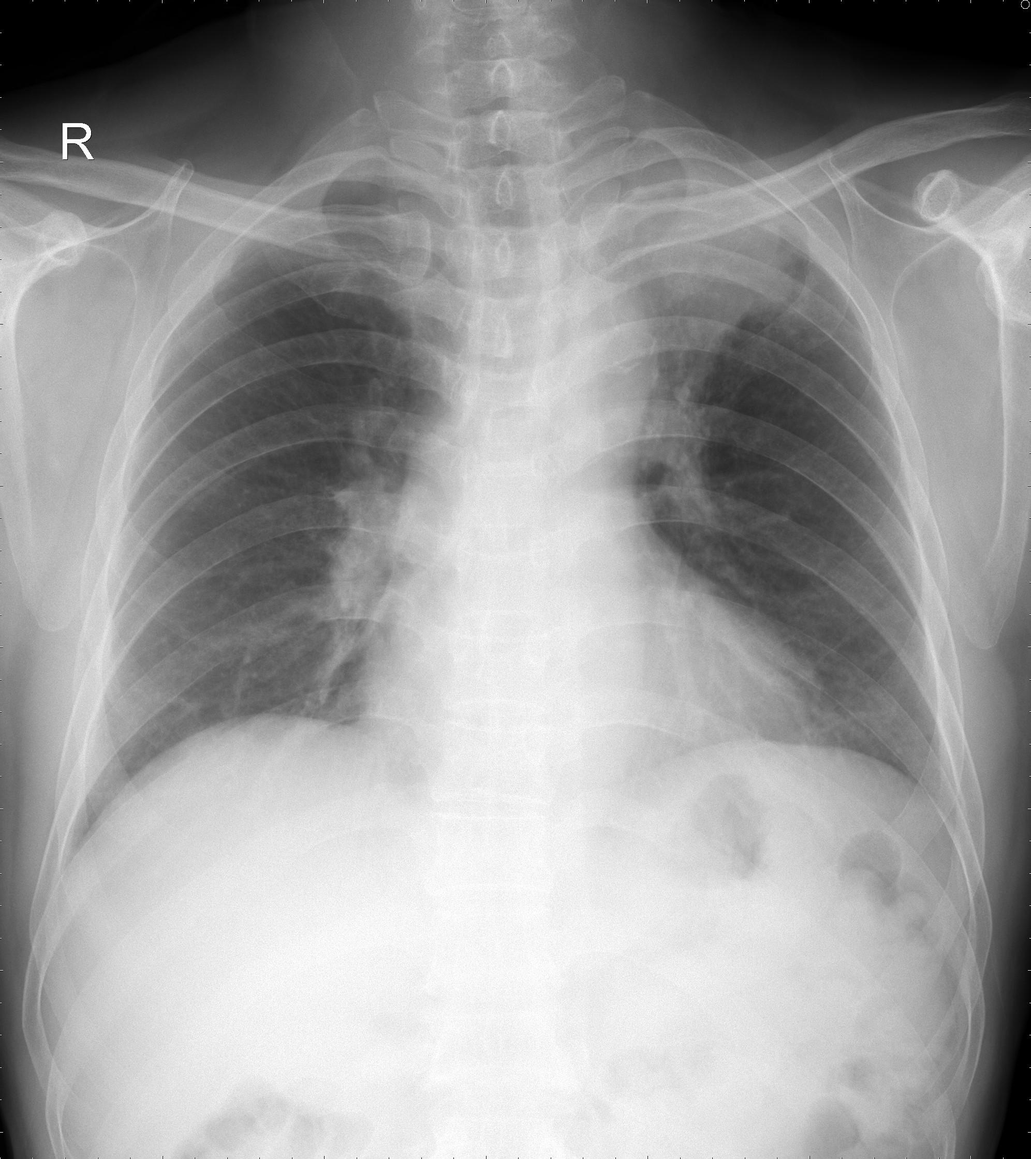Cardiomegaly: (347, 635, 832, 766)
